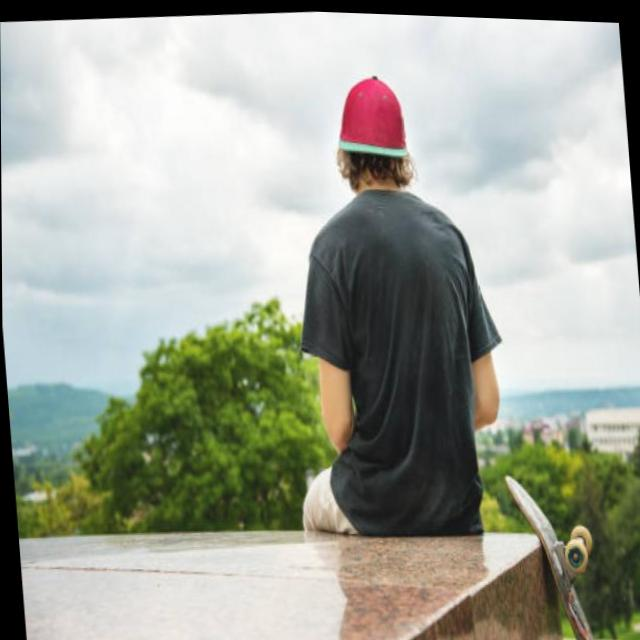no helmet: (328, 52, 419, 204)
